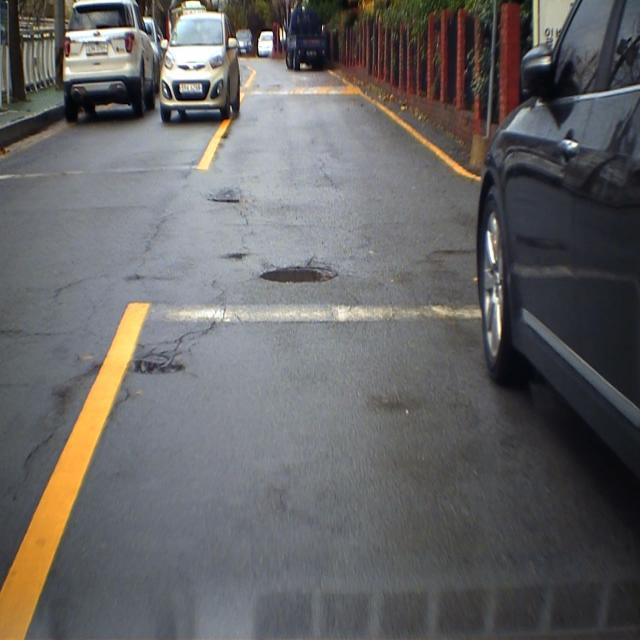pothole: (251, 257, 352, 290), (125, 351, 193, 389), (201, 178, 248, 210), (216, 246, 256, 265)
